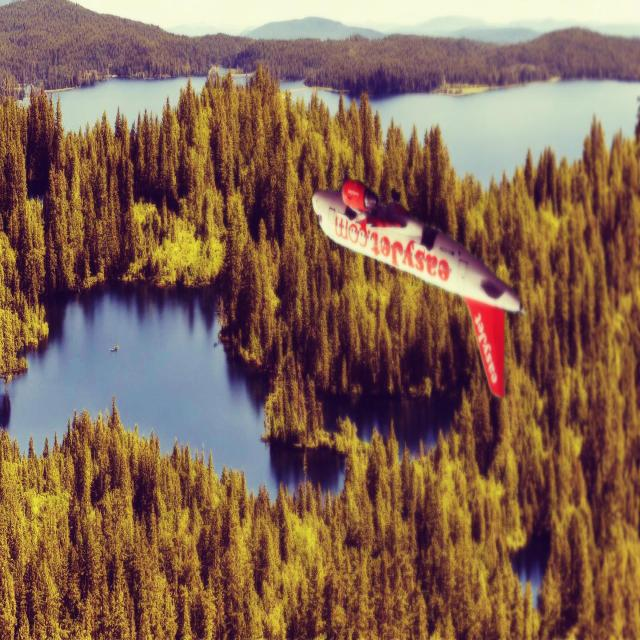airplane: (311, 175, 526, 399)
